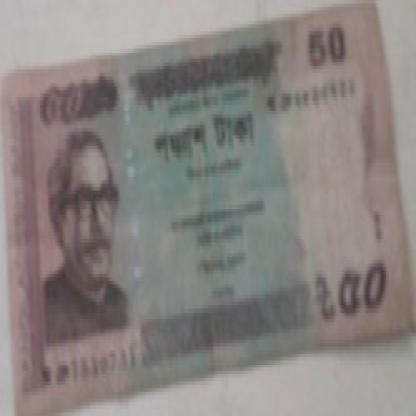Fifty taka: (318, 260, 403, 350), (36, 80, 94, 152)
